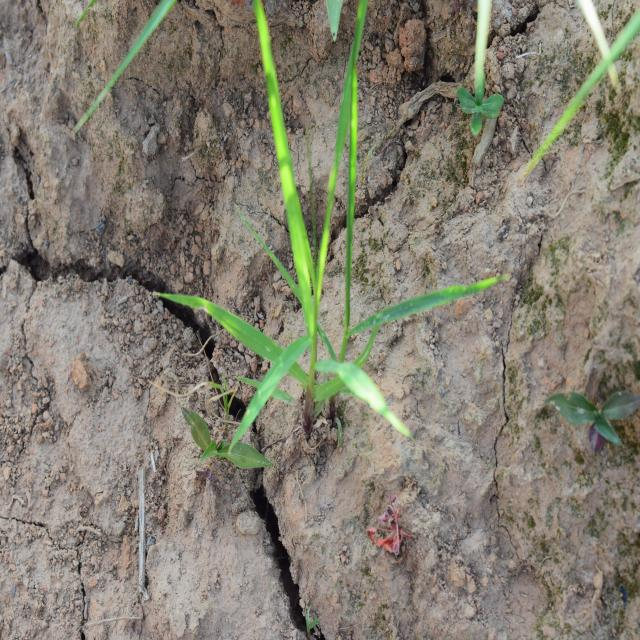green_foxtail: (226, 104, 436, 462)
